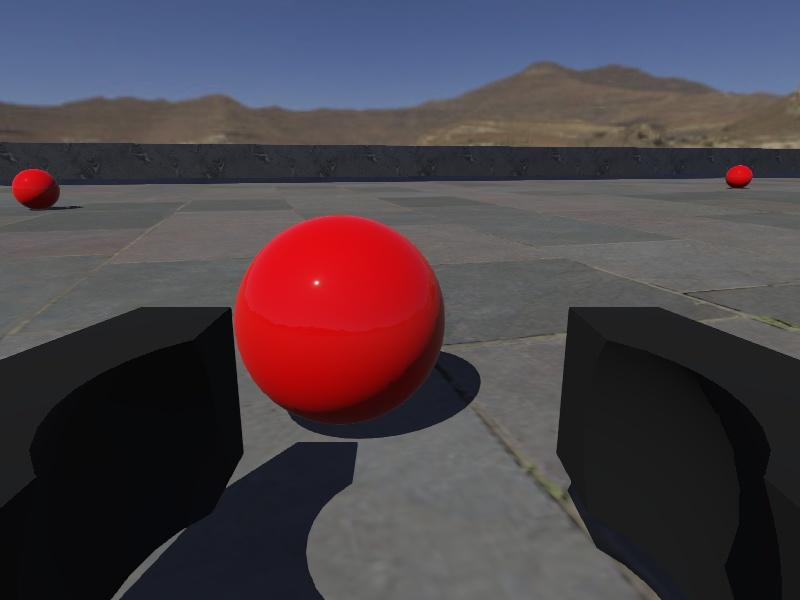red ball: (232, 213, 446, 428), (11, 167, 62, 212), (724, 163, 754, 190)
